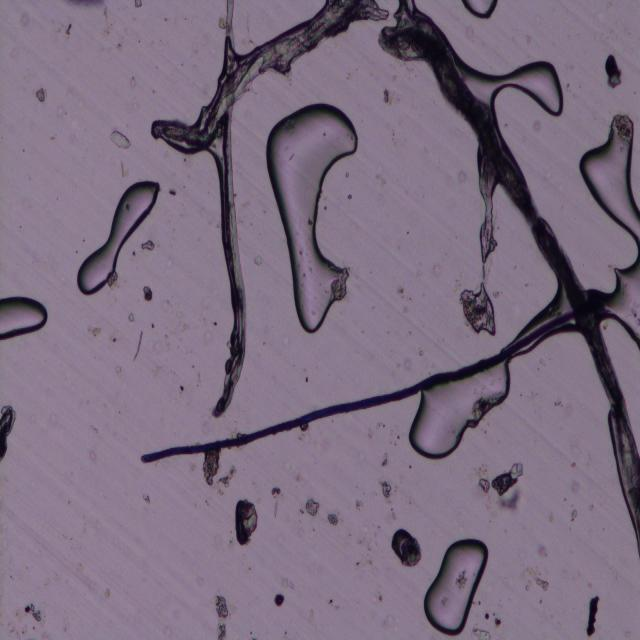Air bubble: (263, 101, 359, 335), (76, 180, 160, 295), (411, 364, 511, 458), (464, 45, 566, 125), (580, 112, 640, 246), (421, 539, 489, 637), (603, 247, 640, 345), (0, 294, 49, 342), (464, 0, 499, 20)
Background material: (234, 497, 260, 548), (393, 526, 423, 570), (489, 459, 525, 495), (201, 451, 222, 489), (12, 600, 43, 624), (212, 593, 228, 639), (605, 52, 623, 91), (584, 595, 600, 636), (498, 489, 524, 514), (108, 128, 134, 152), (64, 0, 109, 10), (531, 572, 551, 592), (220, 466, 238, 487), (305, 496, 321, 518), (141, 284, 155, 304), (274, 590, 286, 608), (381, 481, 392, 500), (34, 87, 46, 104), (142, 238, 156, 252), (326, 512, 339, 526), (480, 476, 490, 494), (127, 313, 137, 325)
Cellulose filter fibre: (386, 4, 640, 558), (151, 0, 387, 142), (214, 1, 248, 417), (462, 168, 500, 330), (0, 404, 18, 464)
Microfibre: (139, 312, 574, 467)
